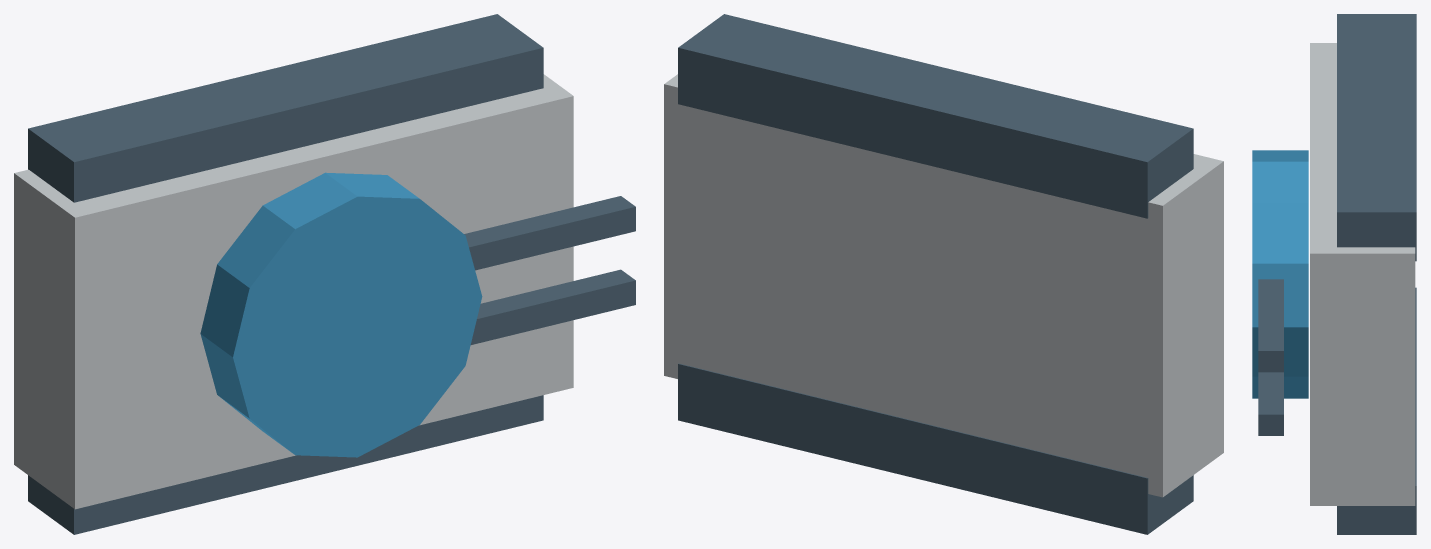
The model's file is u_heavy_tank.glb.
3 views of the same model, side by side, from view 1: azimuth 30°, elevation 25°; view 2: azimuth 150°, elevation 25°; view 3: azimuth 270°, elevation 25° (orthographic). The views are drawn at different scales.
Parts seen in each view (by area): view 1: chassis, turret, track_1.2875, track_-1.2875, cannon_0.3, cannon_-0.3; view 2: chassis, track_1.2875, track_-1.2875; view 3: chassis, track_1.2875, turret, track_-1.2875, cannon_0.3, cannon_-0.3.
Part boxes in pixels (x1=…): chassis: x1=14, y1=74, x2=573, y2=509; turret: x1=200, y1=172, x2=482, y2=457; track_1.2875: x1=28, y1=14, x2=543, y2=202; track_-1.2875: x1=28, y1=395, x2=543, y2=534; cannon_0.3: x1=464, y1=196, x2=635, y2=270; cannon_-0.3: x1=470, y1=269, x2=635, y2=344; chassis: x1=664, y1=74, x2=1223, y2=497; track_1.2875: x1=678, y1=14, x2=1193, y2=218; track_-1.2875: x1=678, y1=363, x2=1193, y2=534; chassis: x1=1310, y1=43, x2=1415, y2=505; track_1.2875: x1=1337, y1=14, x2=1416, y2=261; turret: x1=1252, y1=150, x2=1308, y2=398; track_-1.2875: x1=1337, y1=287, x2=1416, y2=534; cannon_0.3: x1=1258, y1=279, x2=1283, y2=372; cannon_-0.3: x1=1258, y1=372, x2=1283, y2=435.
Size of the model in its own units: 4.53 by 3.04 by 1.4.
